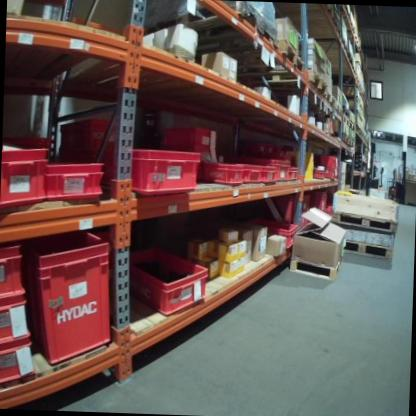pallet: (140, 0, 282, 64), (203, 33, 307, 79), (272, 63, 329, 98), (324, 208, 401, 228), (340, 241, 393, 259), (308, 82, 335, 111), (327, 93, 343, 117), (334, 132, 349, 147), (342, 135, 355, 150), (339, 110, 350, 127)
pallet_truck: (389, 147, 411, 201), (368, 138, 389, 193)
small_load_carrier: (30, 227, 119, 376), (124, 243, 209, 317), (107, 145, 201, 197), (56, 116, 129, 160), (3, 142, 50, 209), (258, 187, 311, 236), (47, 154, 101, 200), (0, 338, 37, 393), (0, 243, 32, 303), (0, 296, 35, 350), (240, 219, 297, 249), (165, 124, 220, 148), (199, 161, 240, 188), (267, 155, 292, 186), (240, 159, 265, 185), (314, 188, 326, 224), (261, 164, 279, 185), (321, 155, 342, 172), (308, 167, 326, 183), (287, 168, 302, 183), (324, 167, 336, 180)
